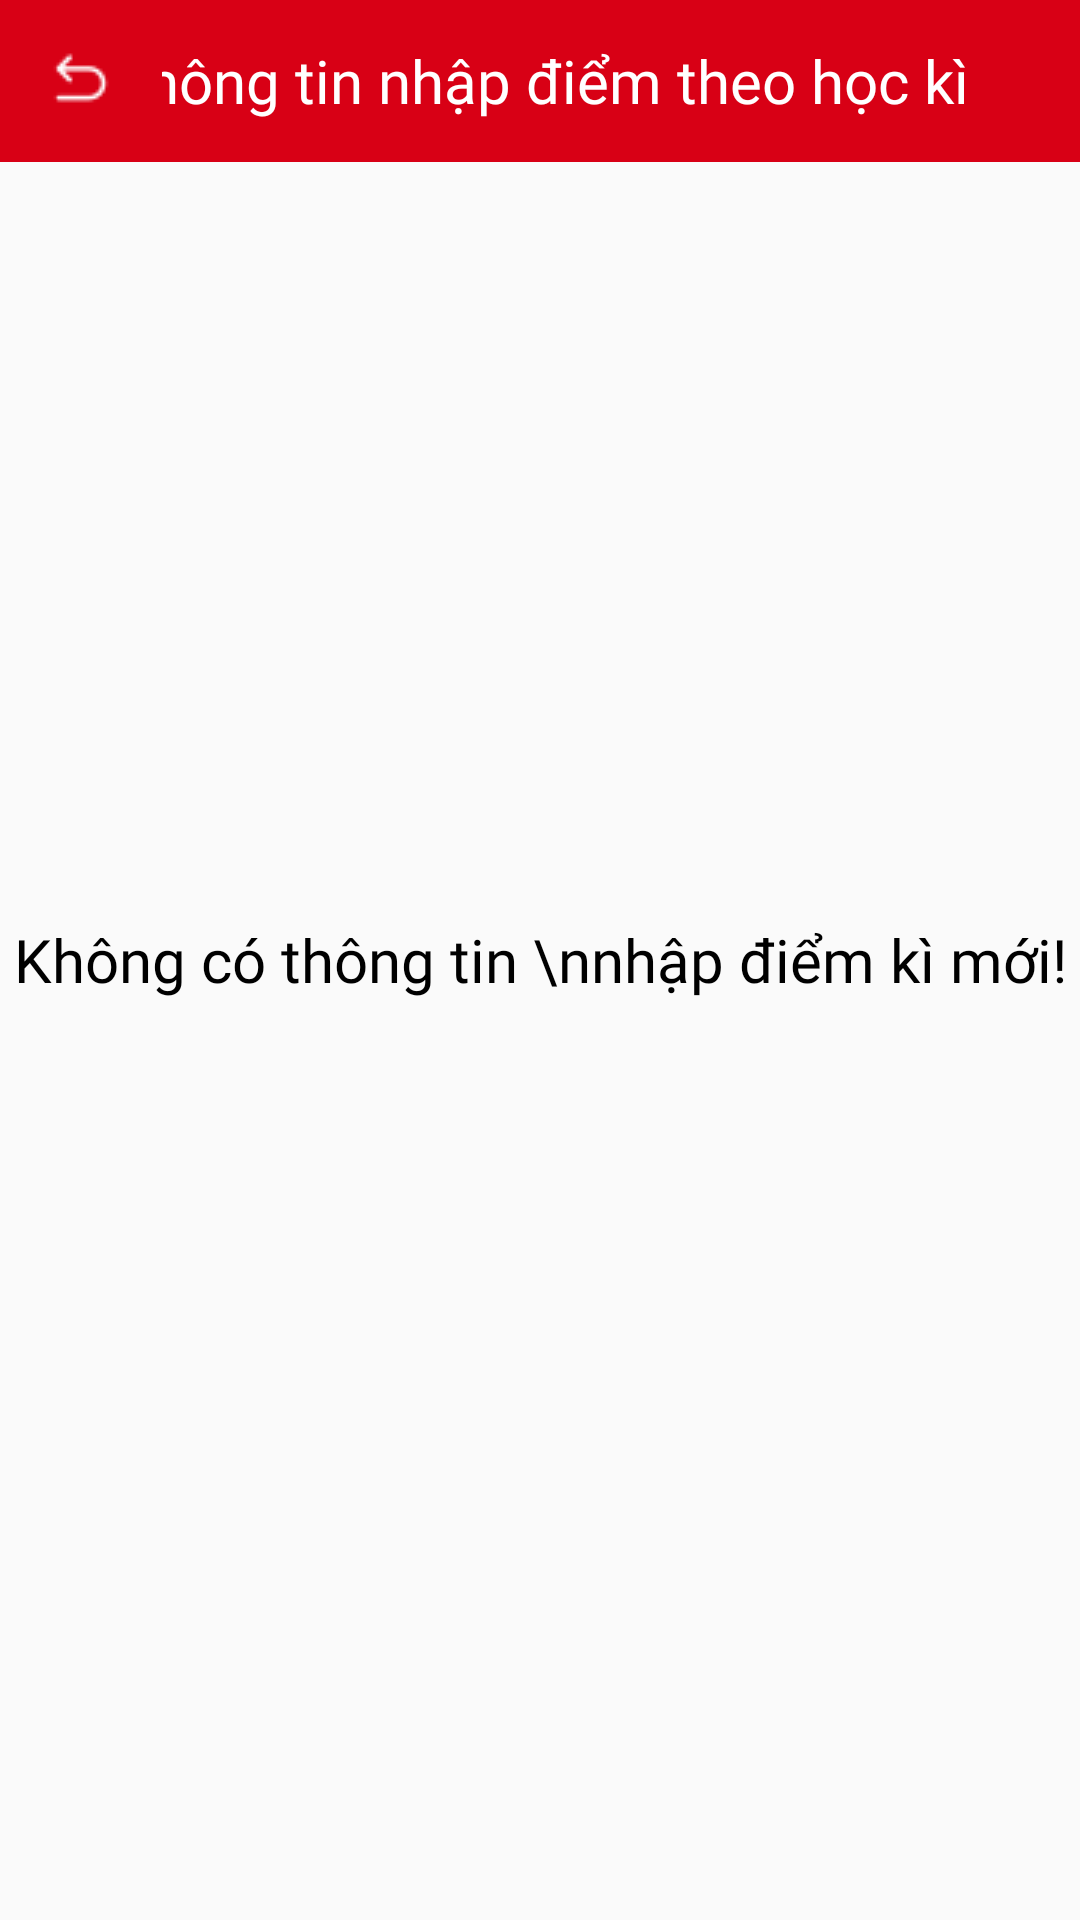

Icon bounding boxes for this 1080x1920 phone screenshot, format [x1,y1,x2,y2]:
return: [55,53,108,103]
